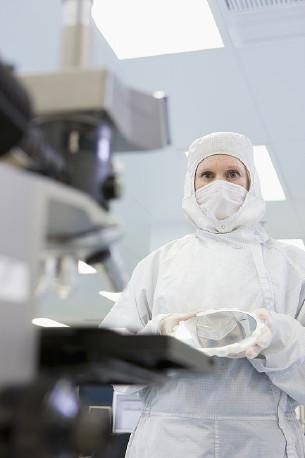OK: (186, 159, 253, 226)
